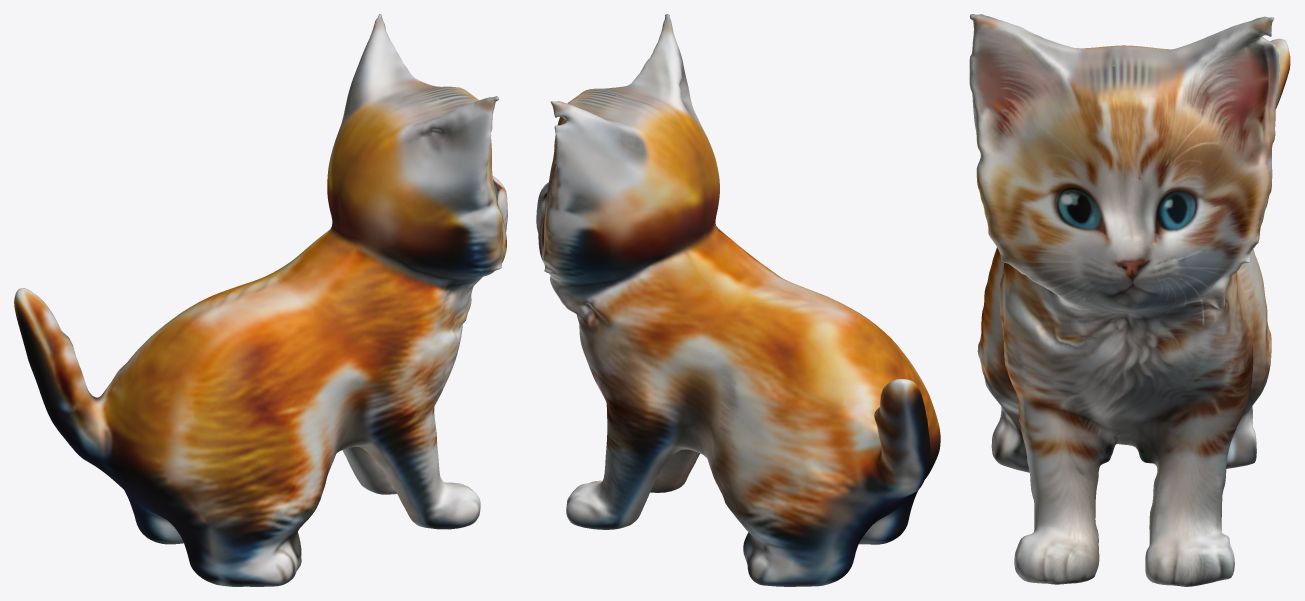
The model's file is 35aa52ec-047b-408d-9aeb-f79be1f38857.glb.
3 views of the same model, side by side, from view 1: azimuth 30°, elevation 25°; view 2: azimuth 150°, elevation 25°; view 3: azimuth 270°, elevation 25° (orthographic). The views are drawn at different scales.
Parts seen in each view (by area): view 1: tripo_node_35aa52ec-047b-408d-9aeb-f79be1f38857; view 2: tripo_node_35aa52ec-047b-408d-9aeb-f79be1f38857; view 3: tripo_node_35aa52ec-047b-408d-9aeb-f79be1f38857.
Part boxes in pixels (bbox=[...]): tripo_node_35aa52ec-047b-408d-9aeb-f79be1f38857: bbox=[14, 14, 507, 586]; tripo_node_35aa52ec-047b-408d-9aeb-f79be1f38857: bbox=[536, 14, 940, 586]; tripo_node_35aa52ec-047b-408d-9aeb-f79be1f38857: bbox=[969, 14, 1290, 586].
Size of the model in its own units: 0.7237 by 0.7142 by 0.3608.
1 material, 1 textured.
